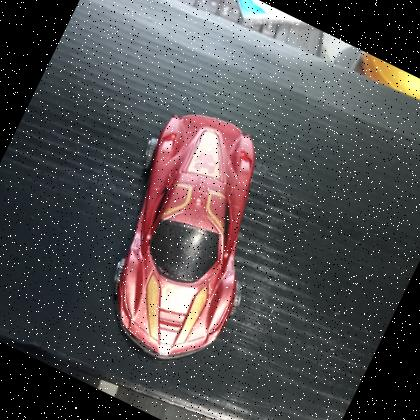Car: (56, 88, 316, 390)
